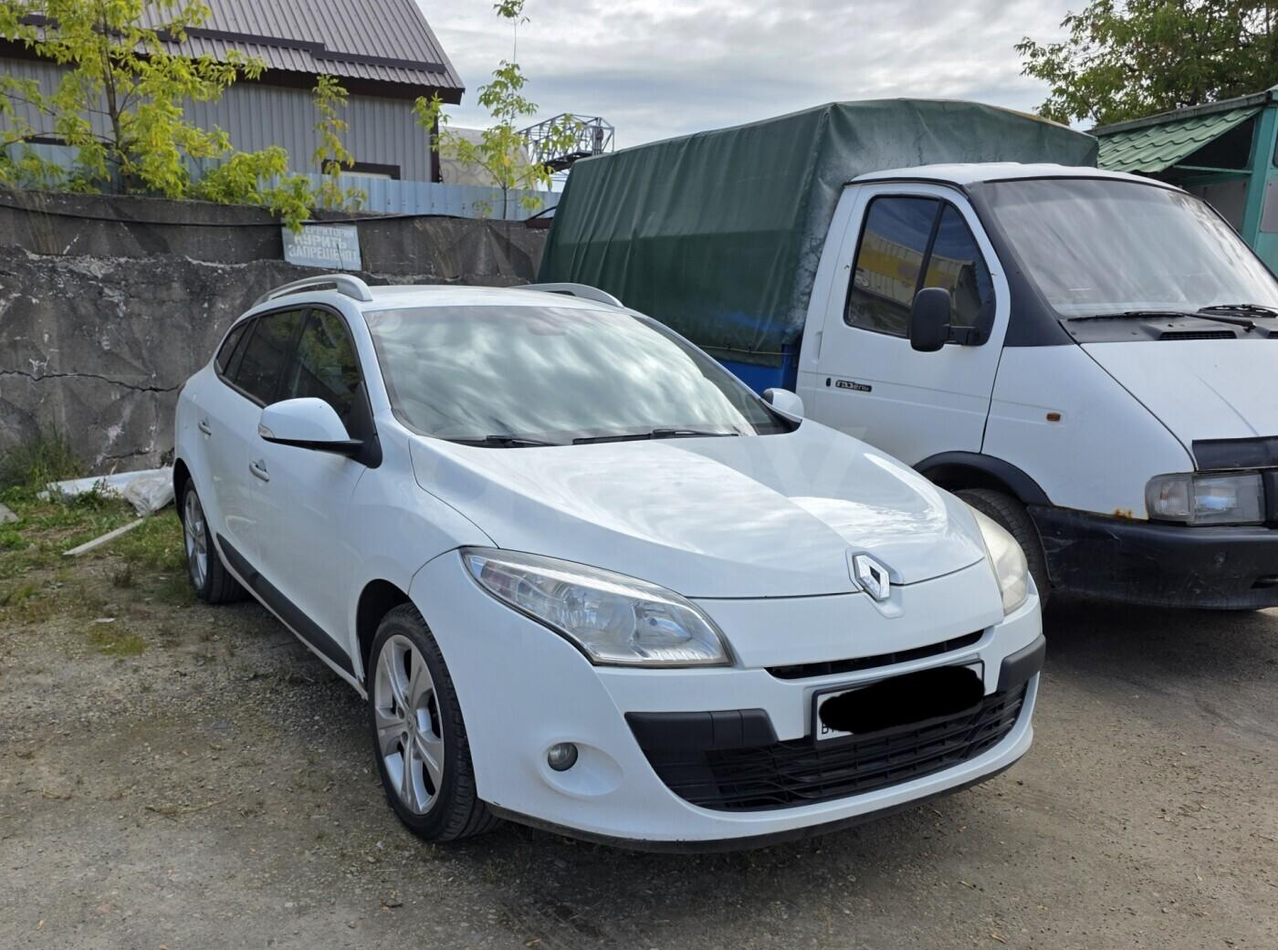Megane_2008-2014: (171, 271, 1062, 872)
